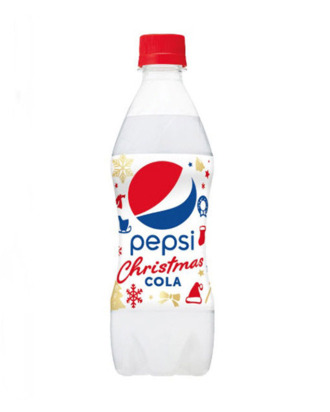pepsi: (126, 159, 197, 231), (130, 159, 197, 231)
